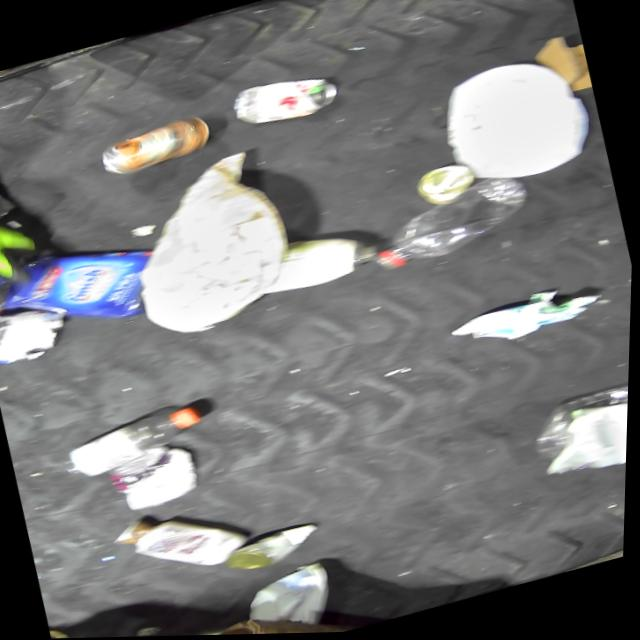can: (110, 442, 210, 517), (95, 115, 208, 180), (230, 70, 340, 132), (230, 520, 329, 575)
milk_jug: (431, 48, 598, 195)
plastic_bottle: (357, 176, 533, 277), (58, 402, 212, 484)
